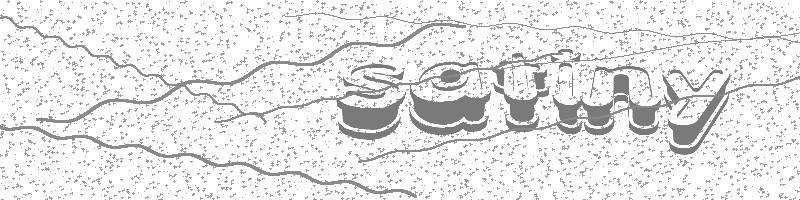a: (407, 58, 492, 138)
i: (548, 46, 583, 133)
n: (581, 61, 661, 136)
s: (334, 58, 406, 139)
t: (491, 51, 550, 134)
y: (660, 64, 733, 157)
